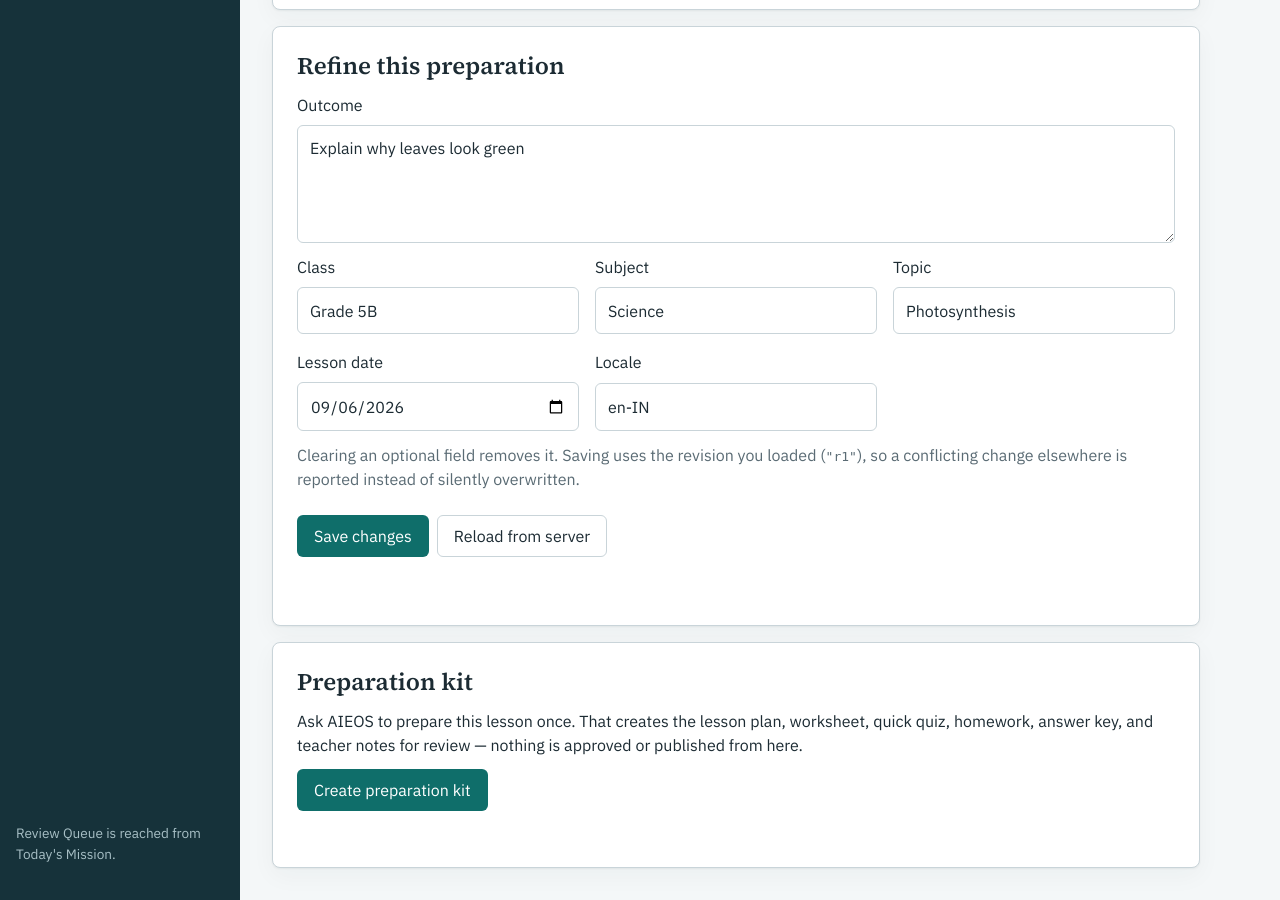
it: TOS-DEV04-I09 Work preparation kit › on 412 reloads Work and asks the teacher to prepare from latest
The image size is (1280, 900).
(page scrolled)
Click the button "Create preparation kit". click: click(392, 790)
box: [297, 769, 488, 811]
(page scrolled)
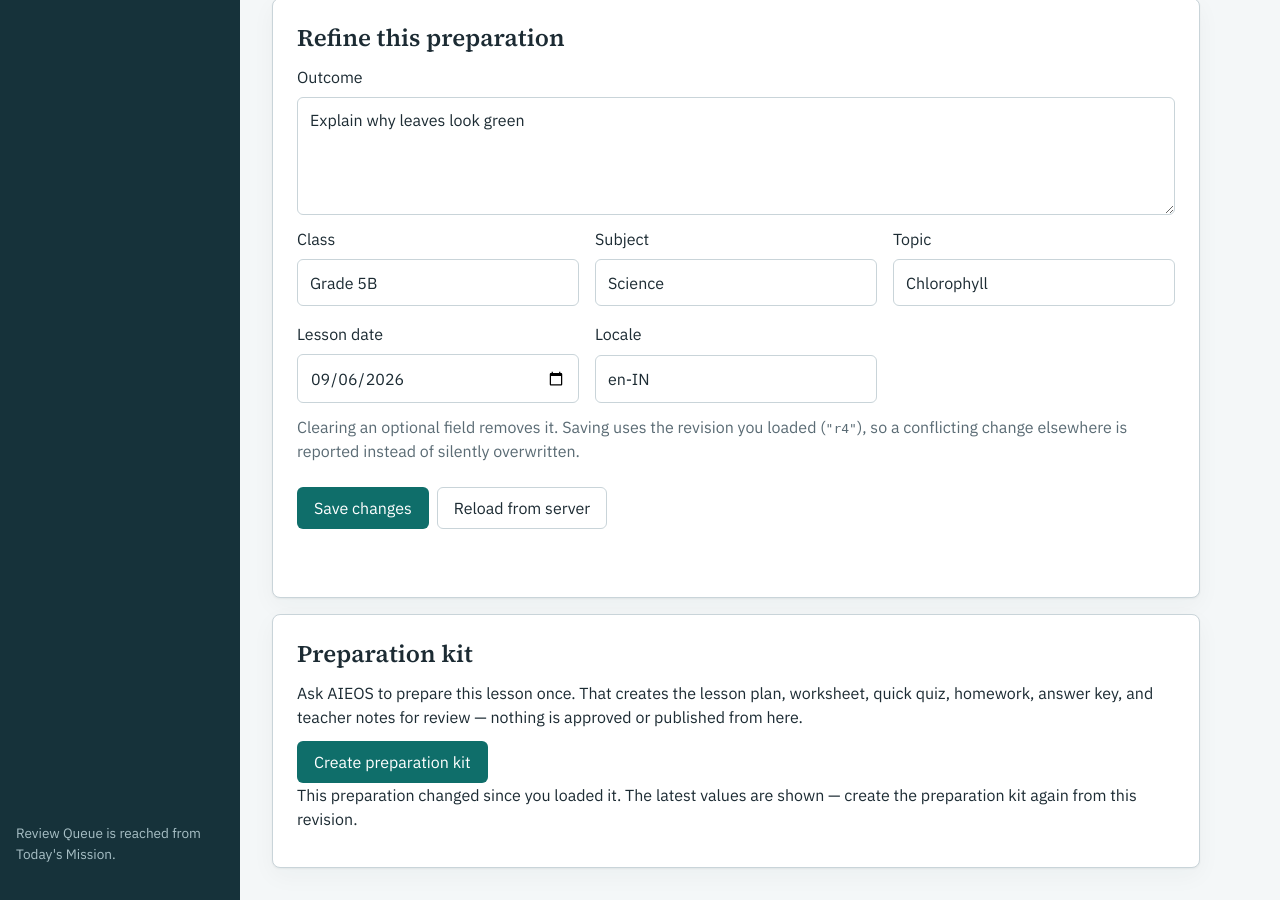
Now the text "create the preparation kit again from this revision" is shown, box [297, 785, 1137, 829]
Now the field labelled "Topic" holds "Chlorophyll", box [893, 259, 1175, 306]
